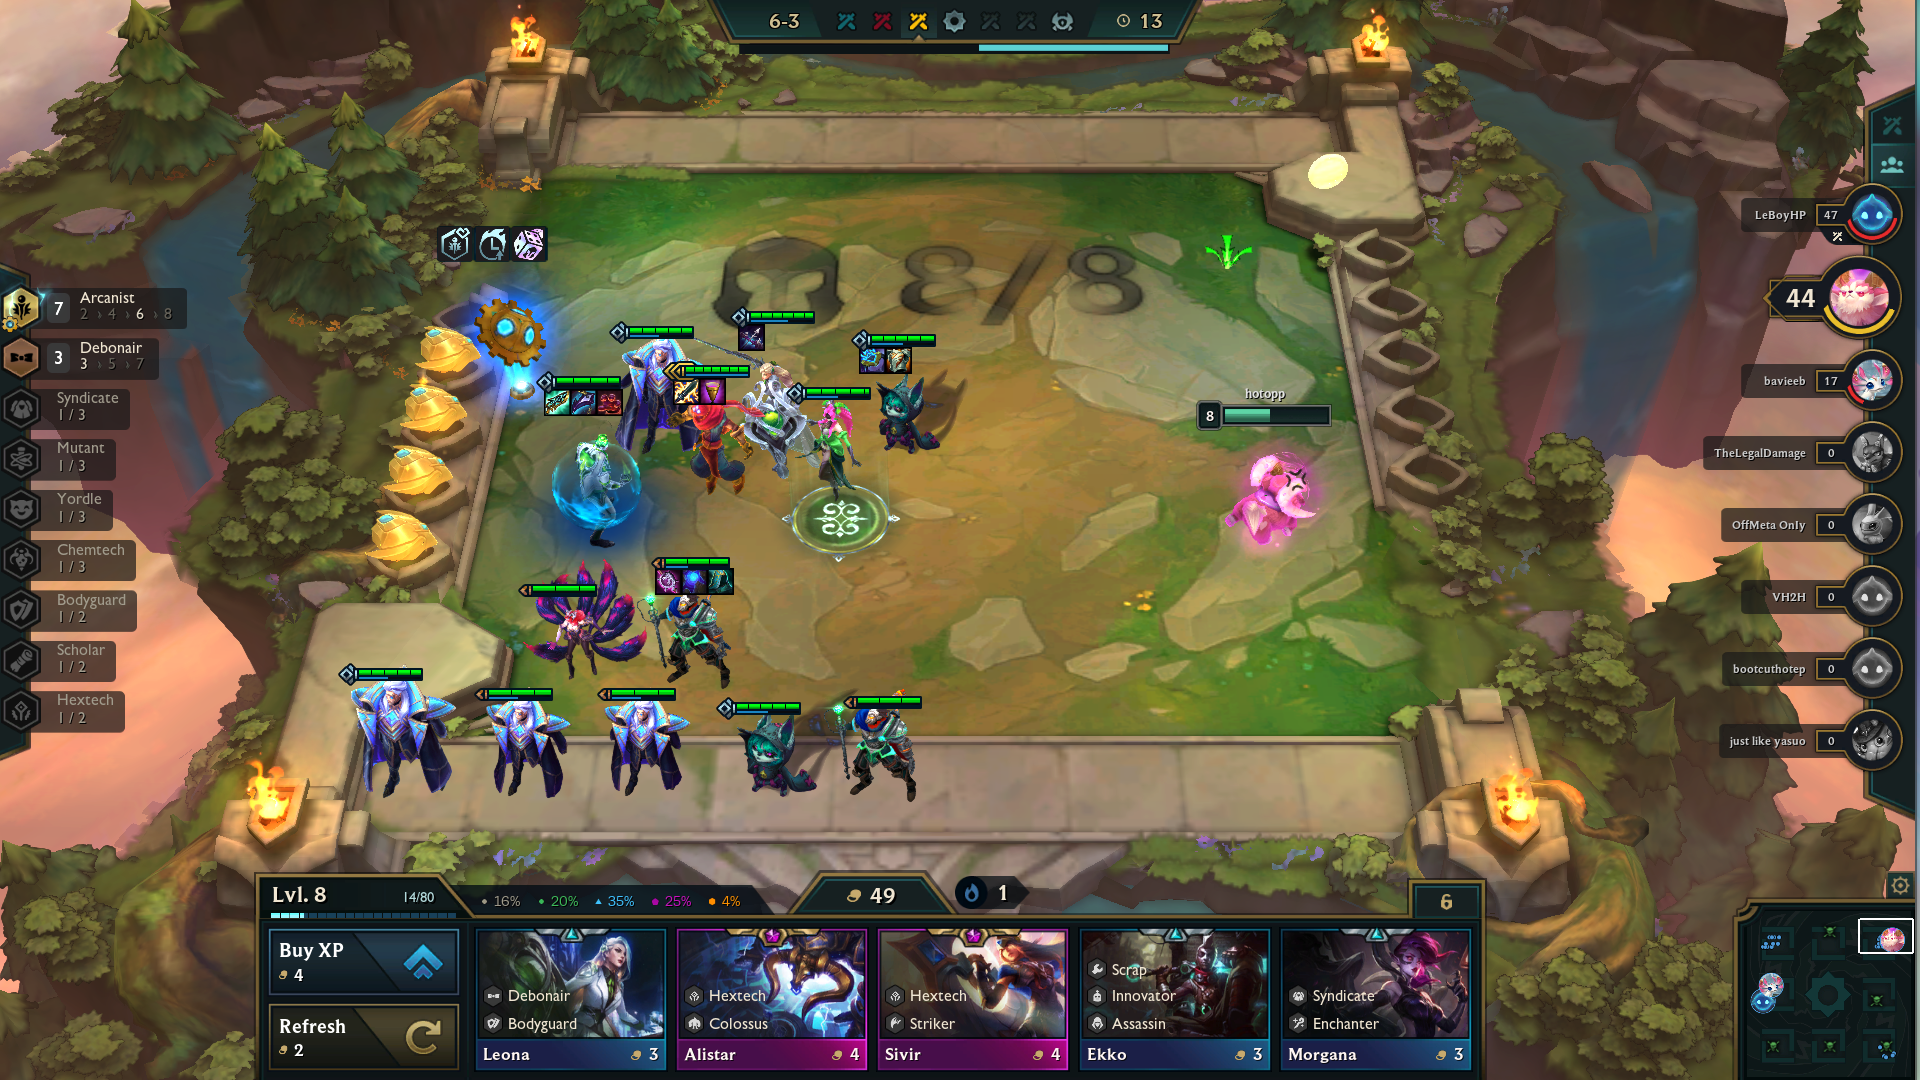ahri: (531, 582, 640, 673)
bran: (560, 429, 626, 555)
leon: (757, 357, 807, 460)
malz: (682, 397, 736, 484)
swai: (355, 671, 460, 796), (479, 694, 574, 794), (603, 698, 698, 793), (629, 339, 680, 431)
synd: (814, 394, 860, 505)
vex: (735, 713, 818, 794), (874, 378, 939, 452)
vikt: (829, 692, 920, 802), (653, 585, 736, 680)
